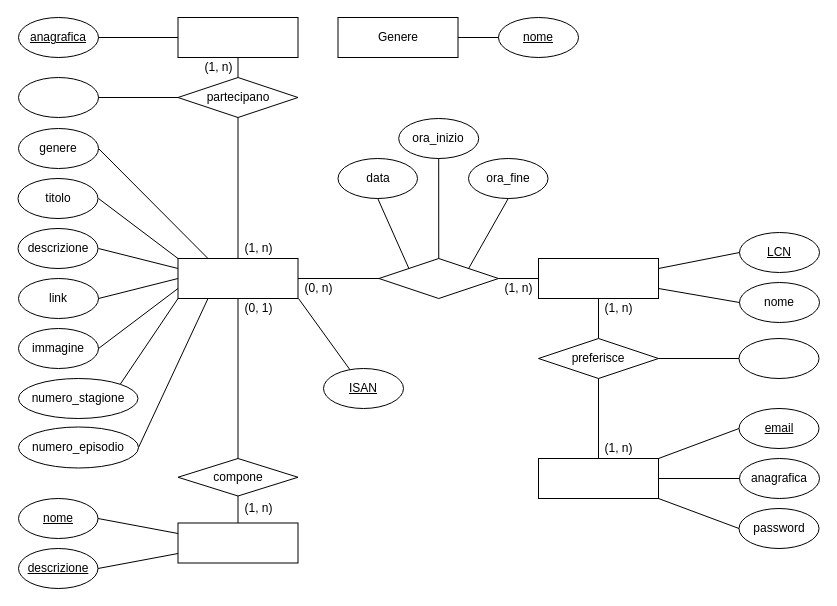
Some shapes in this 837 by 606 pixel diagram are drawn without their labels. Each missing label, with the box of its shape:
Canali: (538, 258, 658, 298)
Cast: (177, 16, 298, 58)
fascia_oraria: (738, 338, 819, 378)
Programma: (177, 258, 298, 298)
ruolo: (18, 76, 98, 118)
Serie: (177, 522, 298, 563)
tramette: (378, 258, 498, 298)
Utente: (538, 458, 658, 498)
